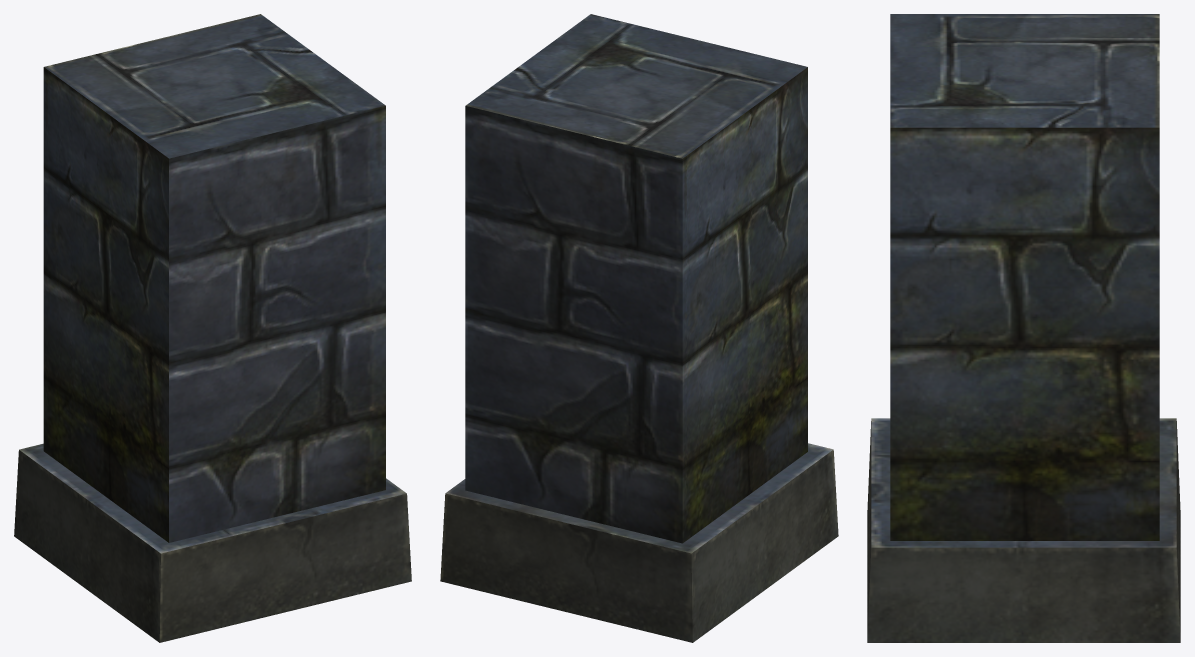
The model's file is C_shizhu001.fbx.
3 views of the same model, side by side, from view 1: azimuth 30°, elevation 25°; view 2: azimuth 150°, elevation 25°; view 3: azimuth 270°, elevation 25° (orthographic). The views are drawn at different scales.
Parts seen in each view (by area): view 1: C_shizhu001; view 2: C_shizhu001; view 3: C_shizhu001.
Boxes of the visible parts, x1,y1,x2,y2 form: C_shizhu001: (14, 14, 411, 642); C_shizhu001: (440, 14, 838, 642); C_shizhu001: (867, 14, 1180, 642).
Bounding box in the file's own units: 96.72 × 173 × 96.72.
